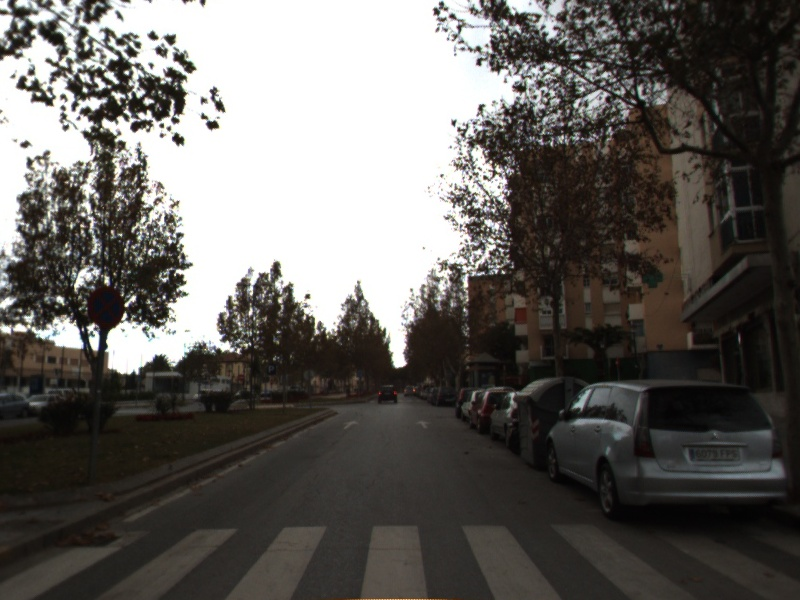STRAIGHT: (341, 419, 361, 431), (414, 418, 433, 430)
